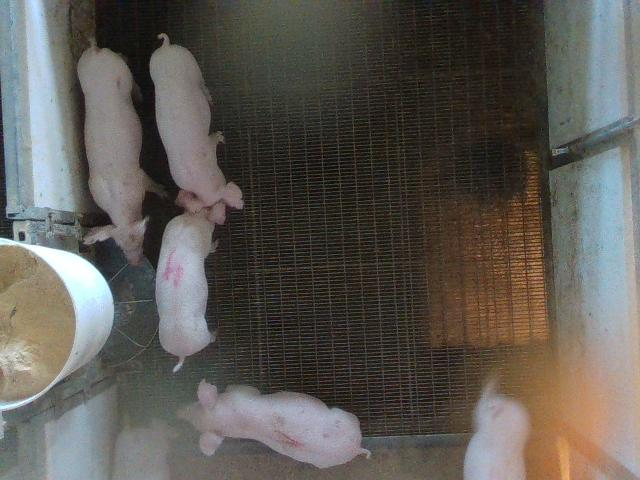pig-1: (178, 380, 370, 468)
pig-4: (155, 190, 226, 372)
